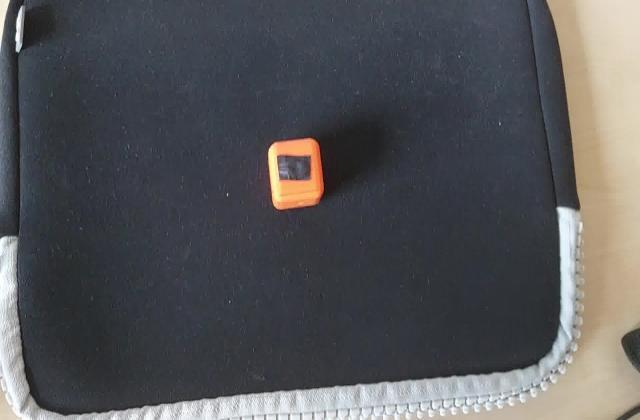black: (274, 152, 314, 184)
sticker: (266, 136, 326, 212)
